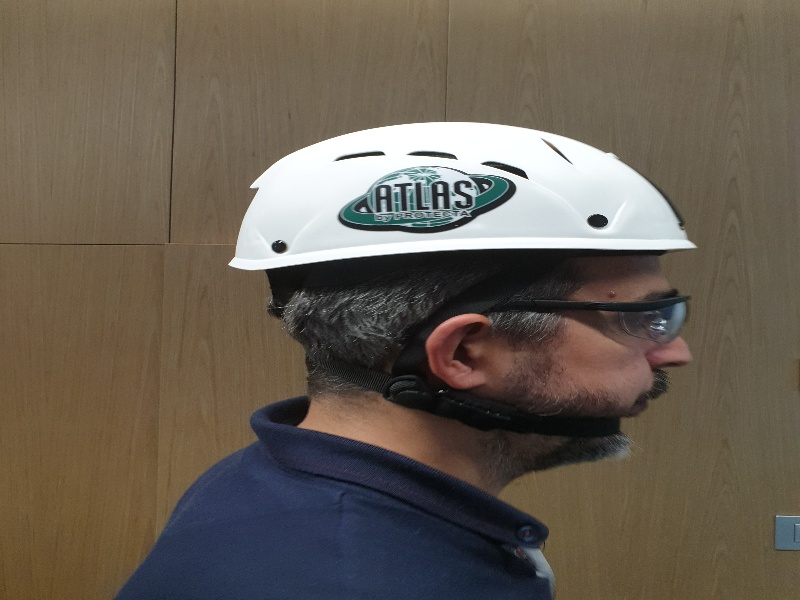Baret: (230, 121, 702, 270)
Gozluk: (465, 296, 693, 344)
